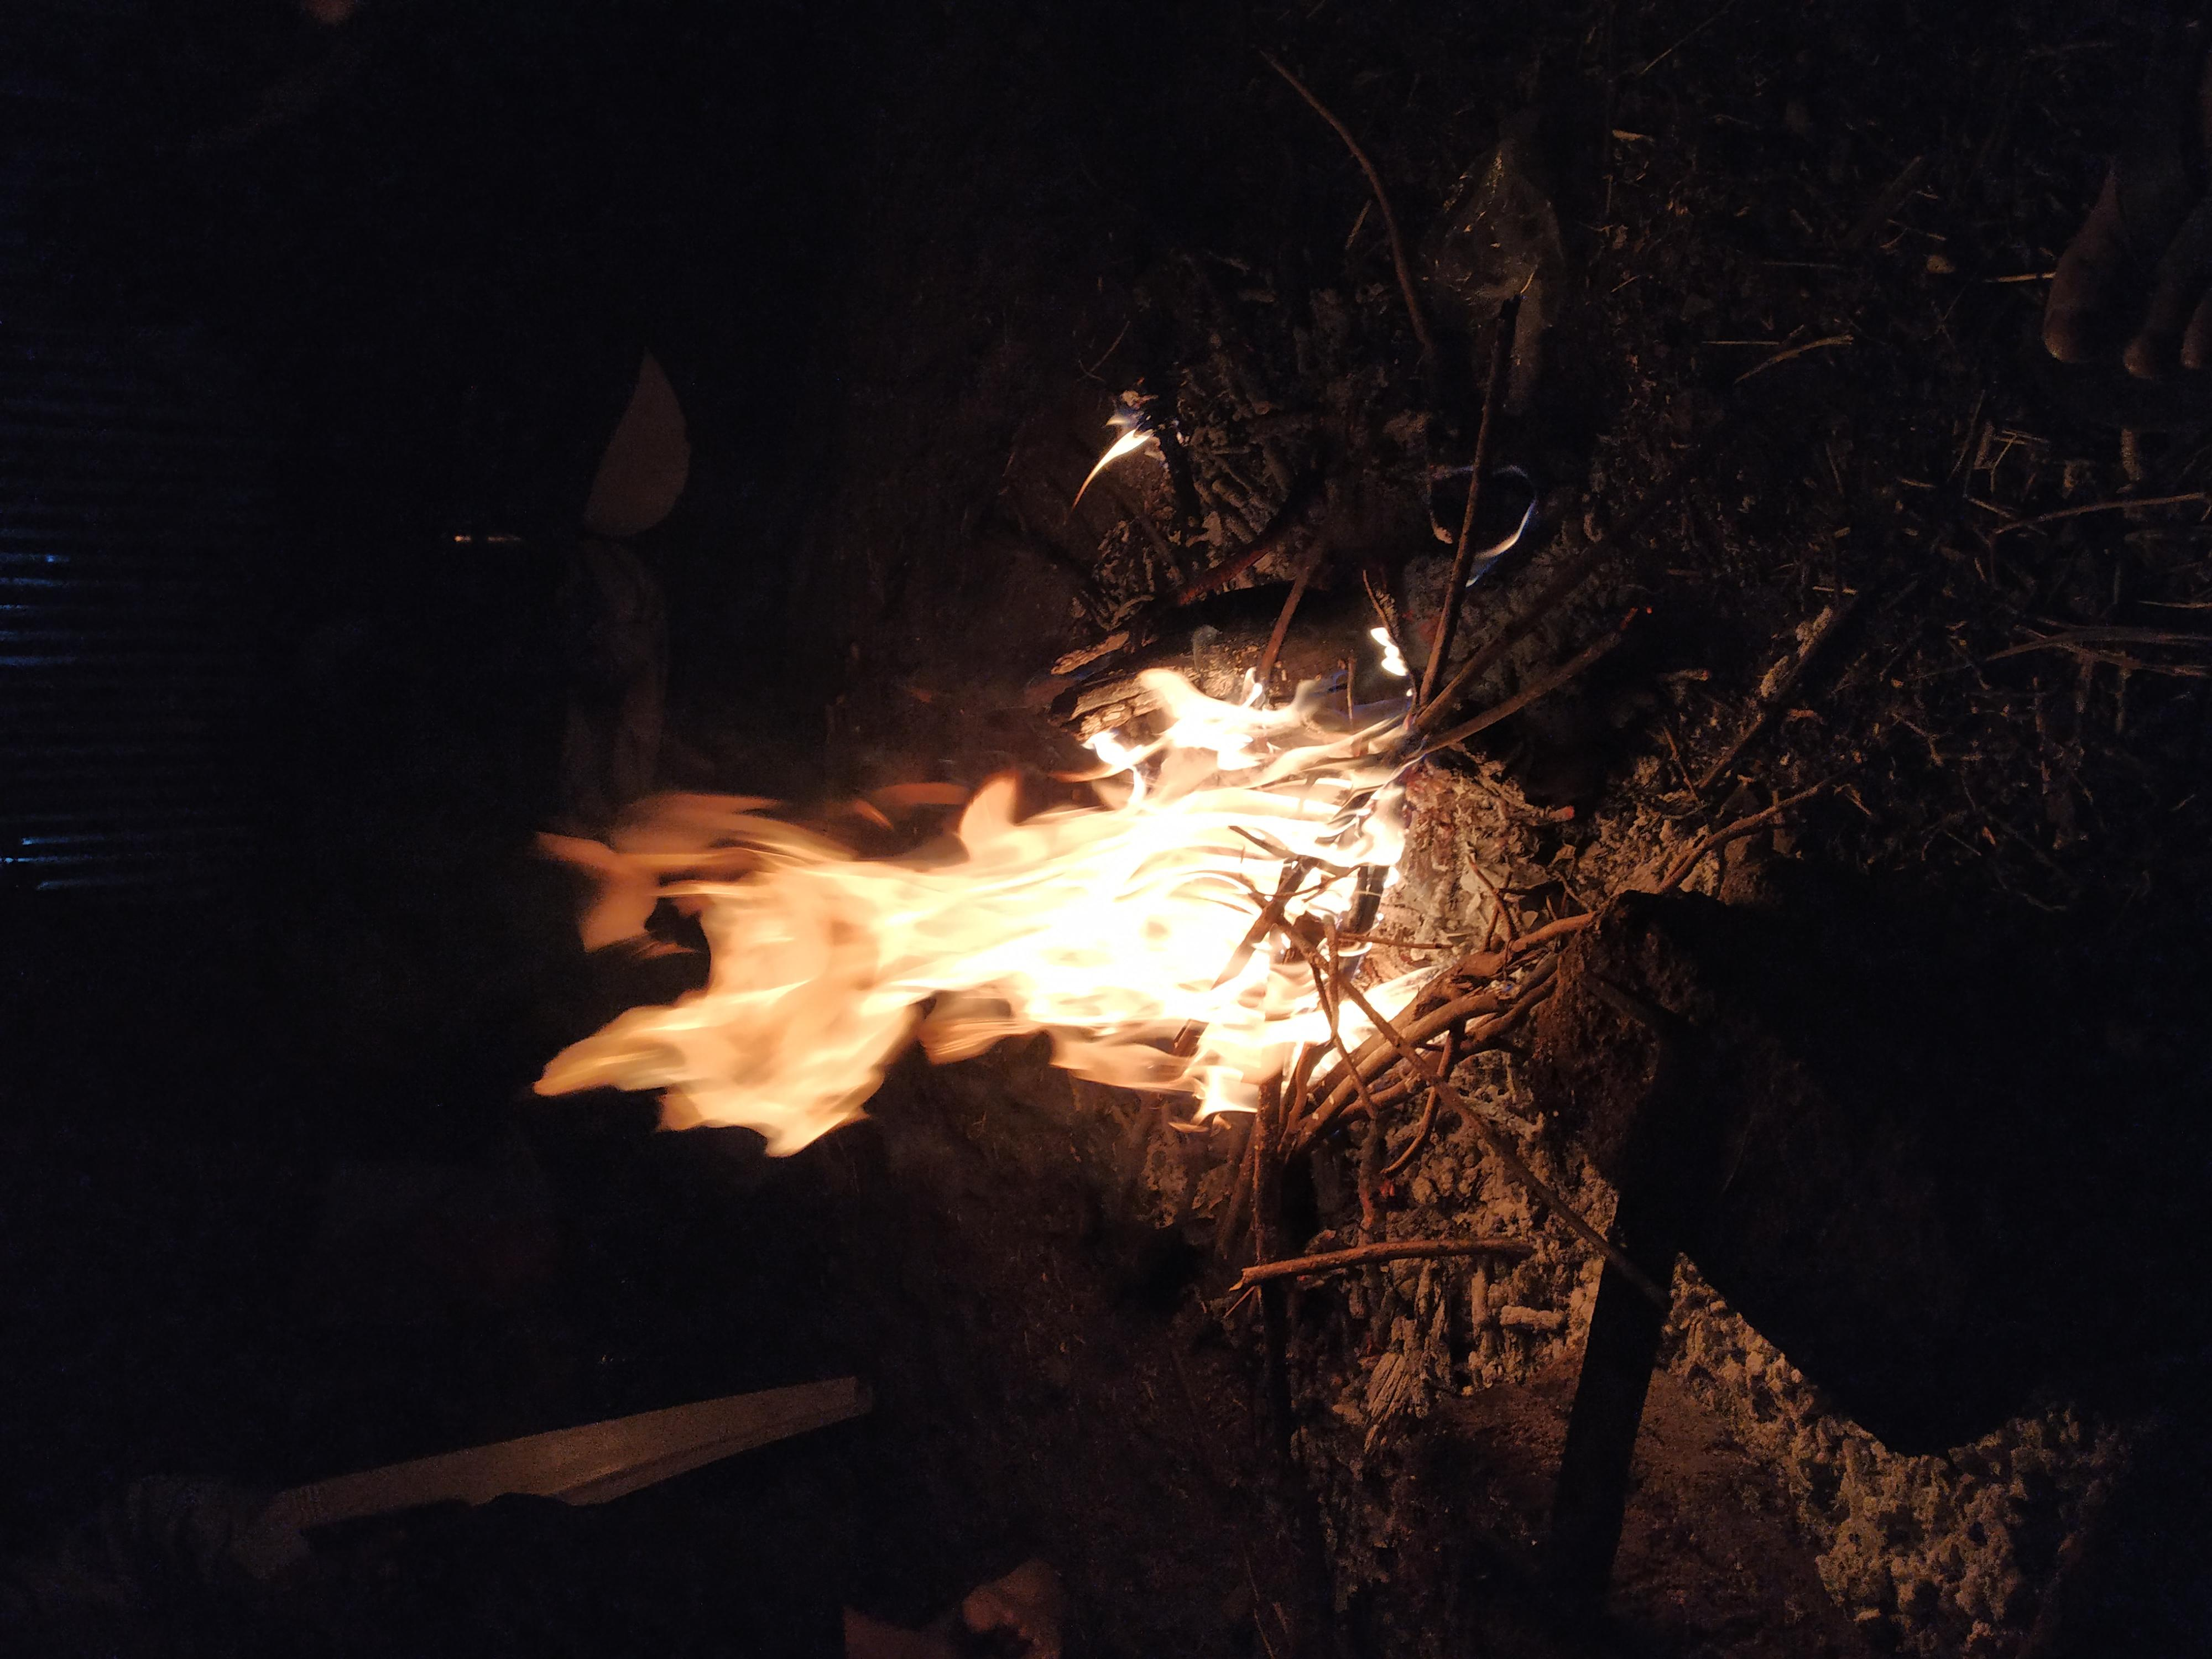fire: (674, 385, 1294, 1117)
